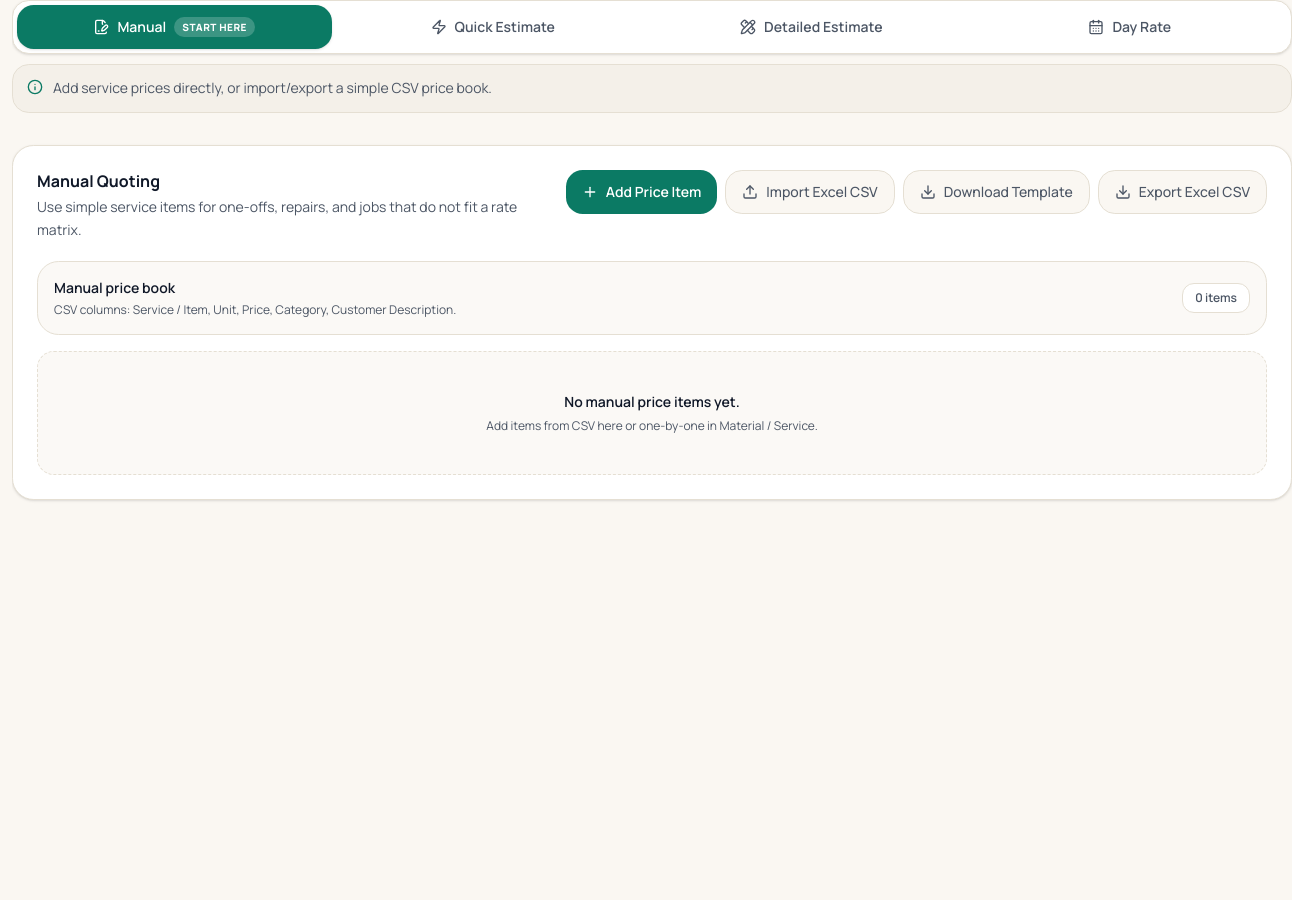
Test: PriceRatesForm rejected action regressions › recovers Save Rates and surfaces a rejected rate settings save
Click the tab "Quick Estimate" at (493, 27), box [336,5,650,49]
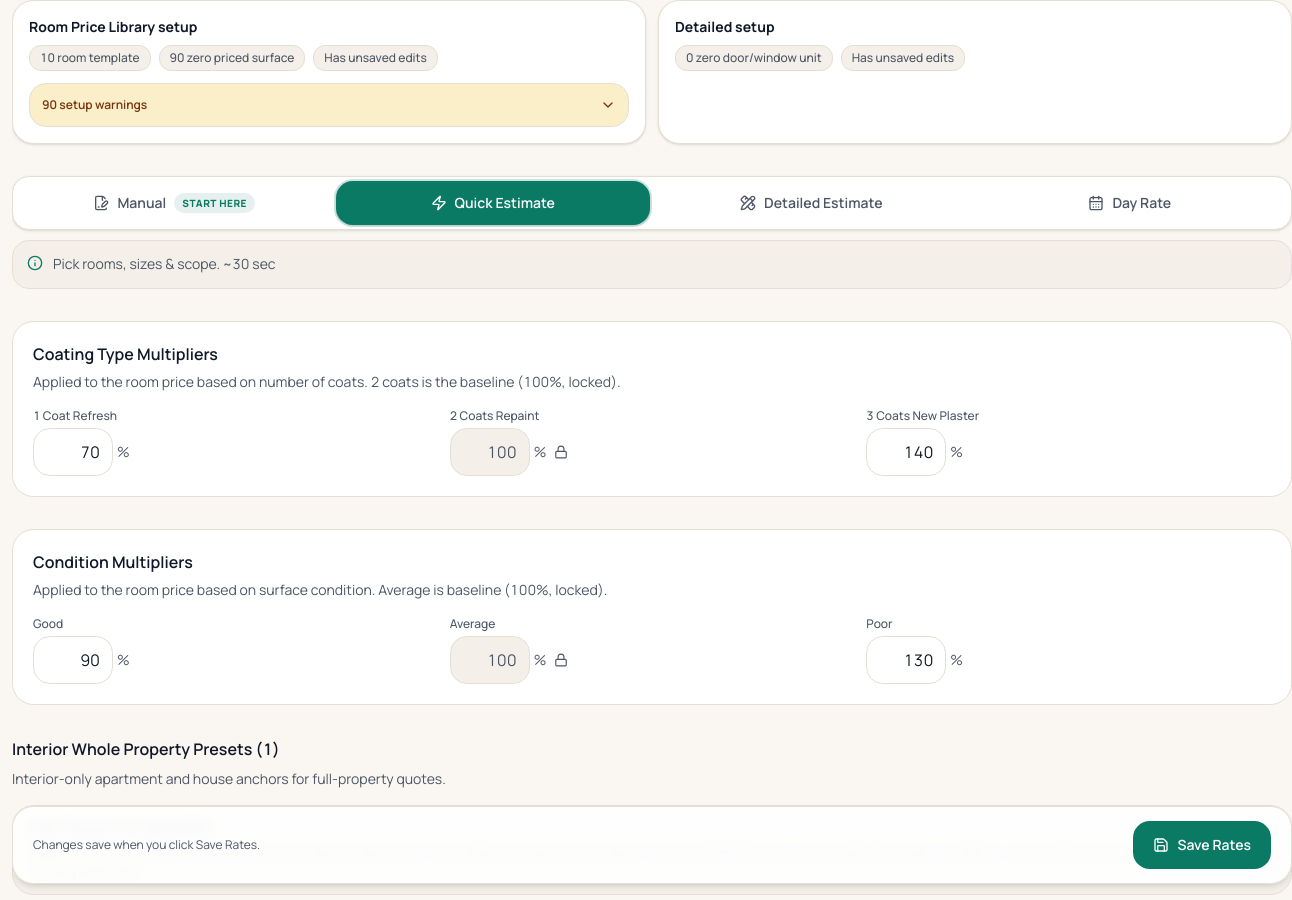
Click the button "Save Rates" at (1202, 845), box [1133,821,1271,869]
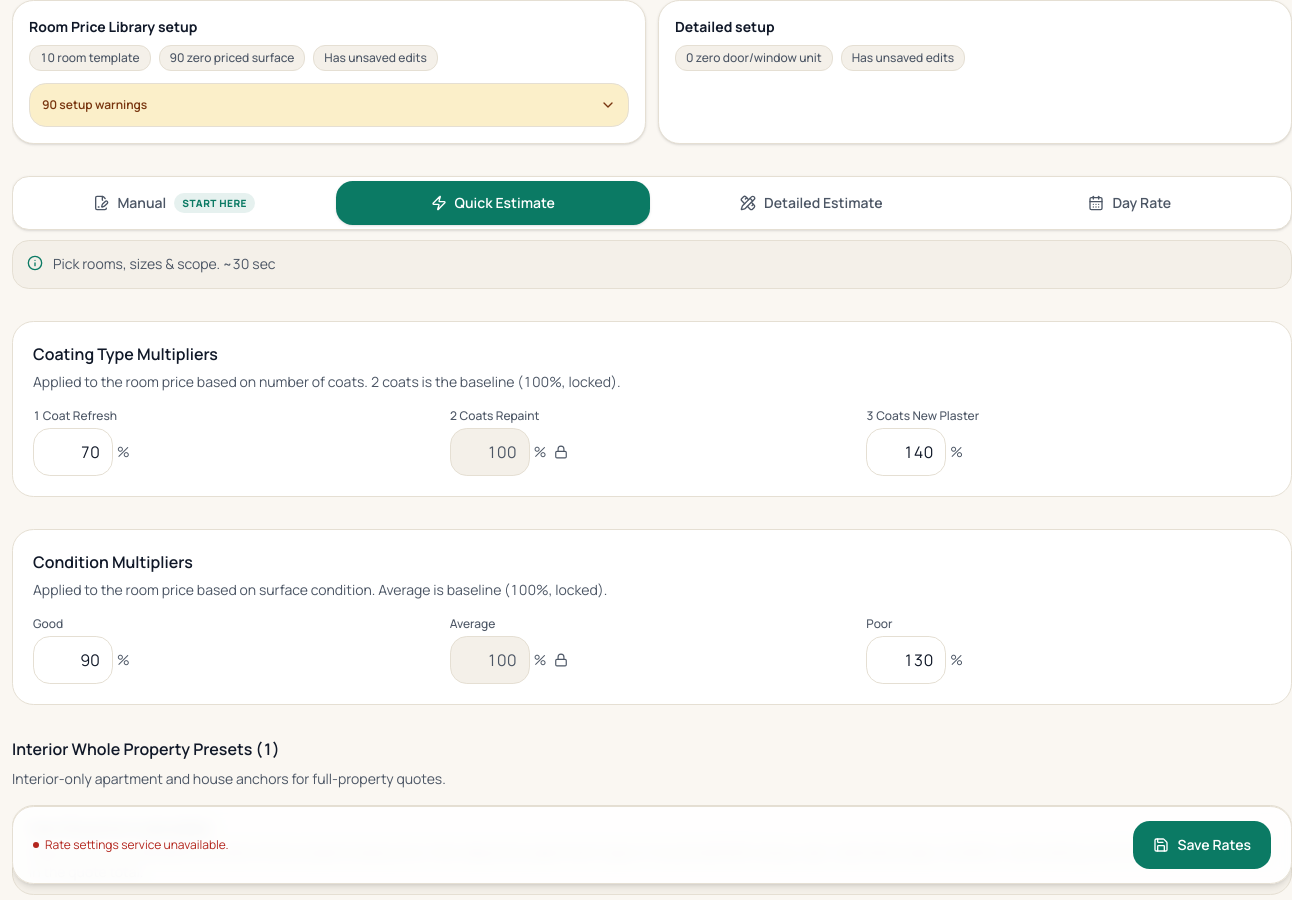
Expected: the text "Rate settings service unavailable." is shown, [33,837,229,853]
Expected: the message reads "Rate settings service unavailable.", [45,836,229,853]
